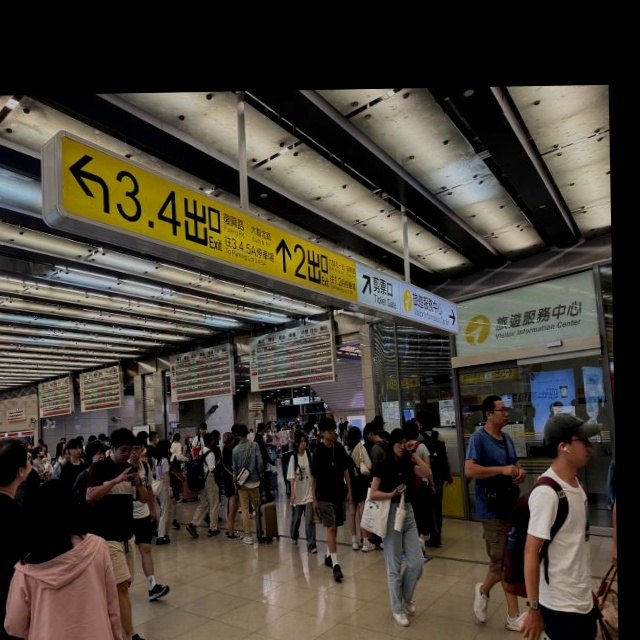Sin_Casco_Mascarrilla: (542, 410, 593, 464), (482, 395, 509, 431), (389, 428, 407, 458), (318, 417, 336, 440), (416, 410, 431, 428), (294, 432, 307, 452), (237, 423, 250, 439), (204, 433, 215, 448)
